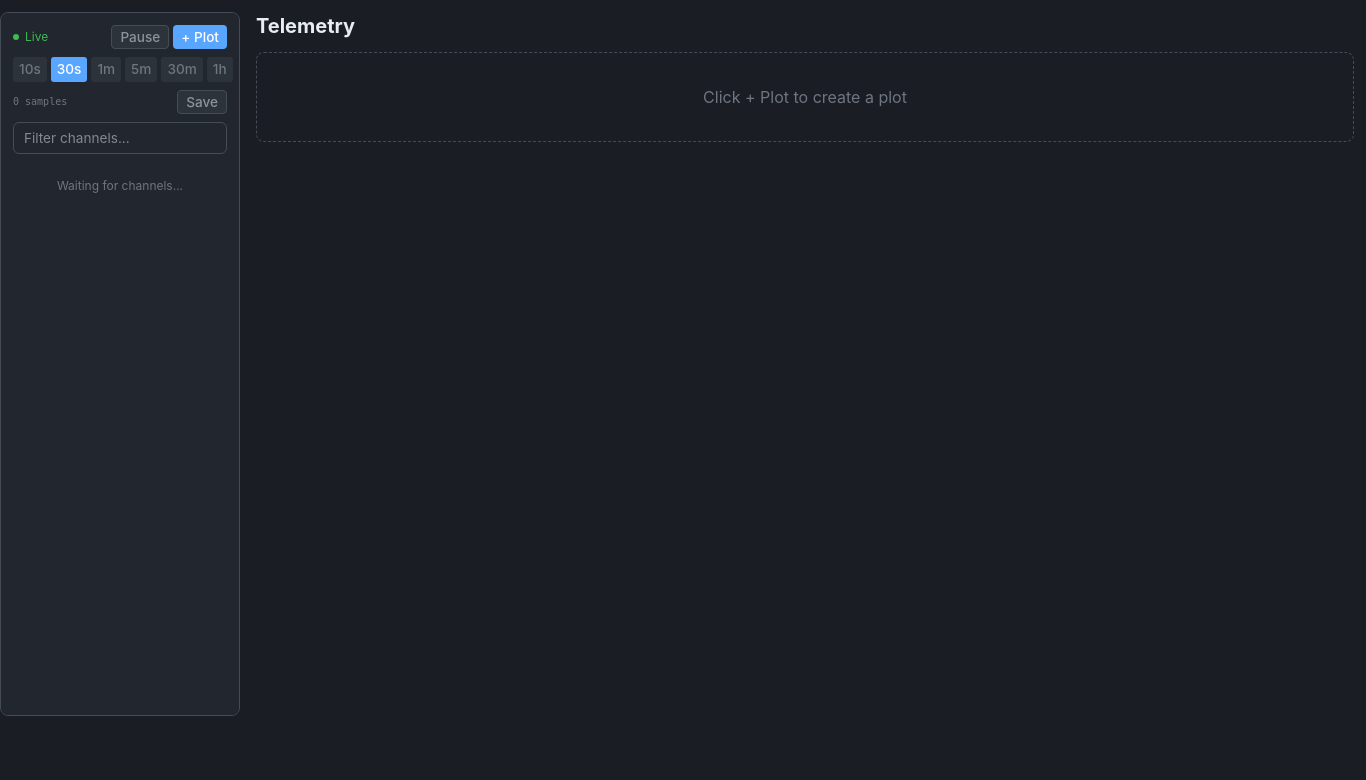
Scenario: Telemetry page status › reads Paused while paused, and Live again on resume
This screenshot has width=1366, height=780.
Click the button "Pause" at {"x": 140, "y": 37}, box [111,25,169,49]
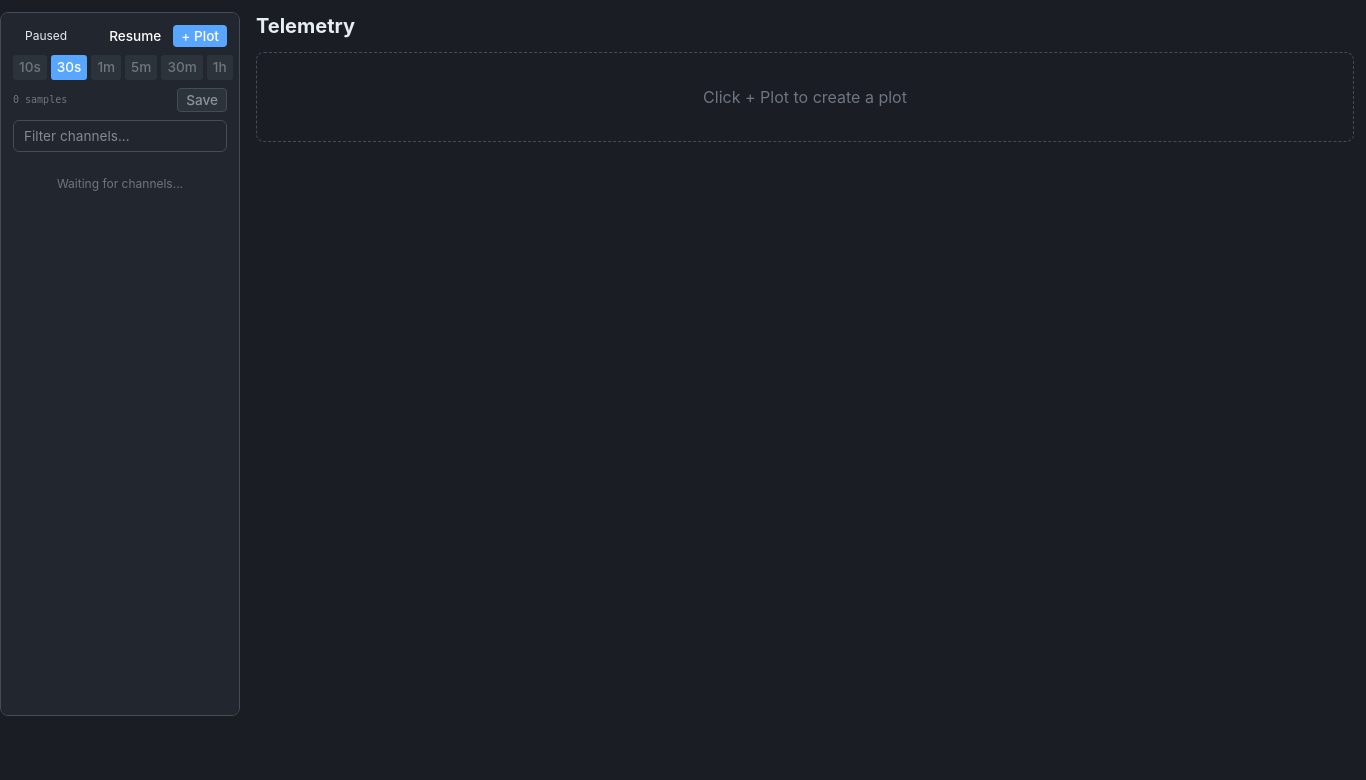
Expected: the text "Paused" is shown, [25,28,67,43]
Click the button "Resume" at {"x": 135, "y": 36}, box [101,25,169,47]
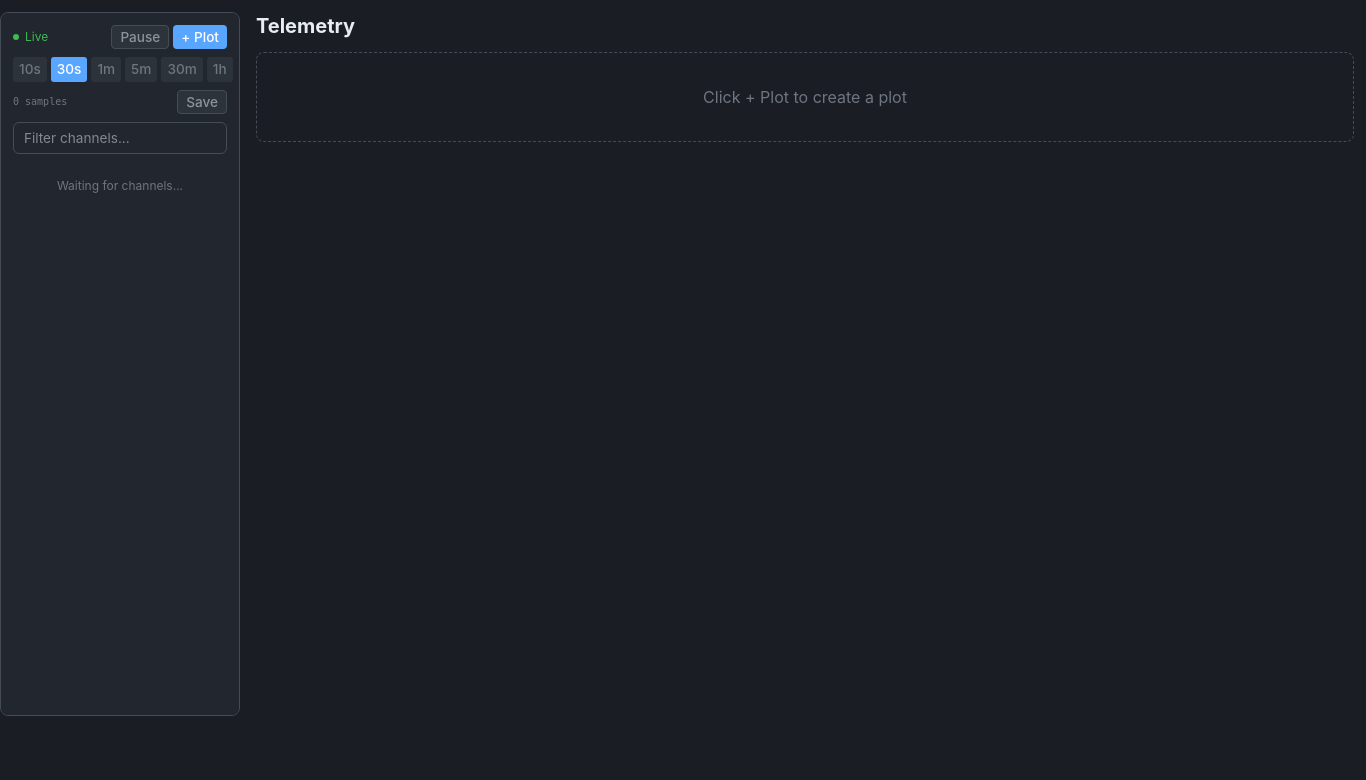
Expected: the text "Live" is shown, [13,29,48,45]
